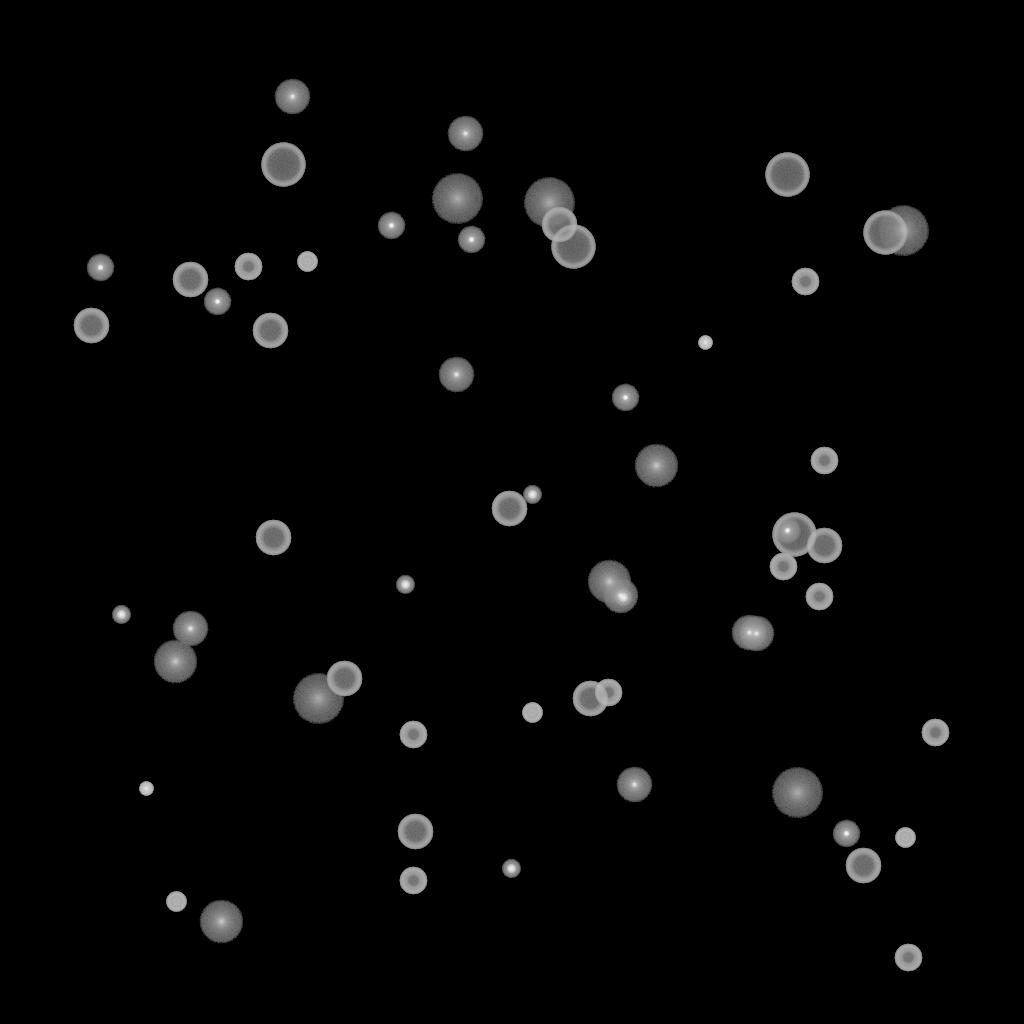depth:-10: (86, 254, 114, 282), (773, 517, 801, 545), (611, 384, 639, 412), (203, 288, 231, 316), (377, 212, 405, 240), (457, 226, 485, 254), (832, 820, 860, 848)
depth:-20: (396, 576, 414, 594), (614, 589, 632, 607), (112, 606, 130, 624), (502, 860, 520, 878), (523, 486, 541, 504)
depth:-30: (698, 336, 712, 350), (139, 782, 153, 796)
depth:-40: (895, 828, 915, 848), (522, 703, 542, 723), (166, 892, 186, 912), (297, 252, 317, 272)
depth:-50: (234, 253, 262, 281), (791, 268, 819, 296), (894, 944, 922, 972), (810, 447, 838, 475), (921, 719, 949, 747), (769, 553, 797, 581), (594, 679, 622, 707), (805, 583, 833, 611), (399, 867, 427, 895), (399, 721, 427, 749)
depth:-60: (326, 661, 362, 697), (845, 848, 881, 884), (572, 681, 608, 717), (255, 520, 291, 556), (806, 528, 842, 564), (172, 262, 208, 298), (73, 308, 109, 344), (541, 207, 577, 243), (252, 313, 288, 349), (397, 814, 433, 850), (491, 491, 527, 527)
depth:-70: (863, 211, 907, 255), (772, 513, 816, 557), (551, 225, 595, 269), (261, 143, 305, 187), (765, 153, 809, 197)
depth:0: (447, 116, 483, 152), (731, 615, 767, 651), (602, 578, 638, 614), (738, 616, 774, 652), (438, 357, 474, 393), (274, 79, 310, 115), (616, 767, 652, 803), (172, 611, 208, 647)
depth:10: (153, 640, 197, 684), (634, 444, 678, 488), (199, 900, 243, 944), (587, 560, 631, 604)
depth:20: (771, 768, 823, 818), (292, 674, 344, 724), (431, 174, 483, 224), (523, 178, 575, 228), (877, 206, 929, 256)
